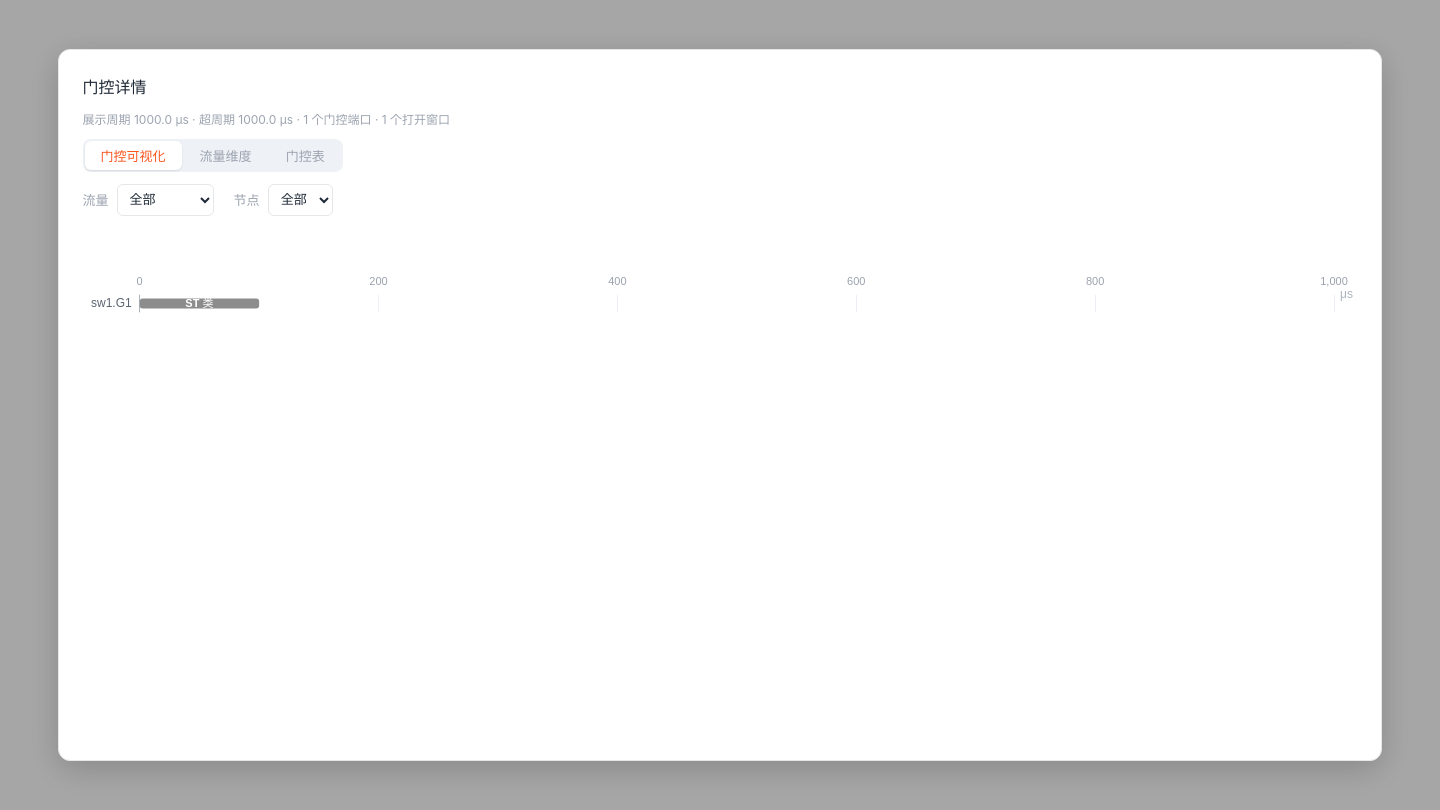
GclDetailModal › R10：class 降级引用显示「ST 类」徽章
The width and height of the screenshot is (1440, 810).
expect the panel with test id "gcl-gantt-slot" is shown: met, box [83,228,1357,320]
Step 1. Click the tab "门控表" → [305, 155], box [270,141,341,170]
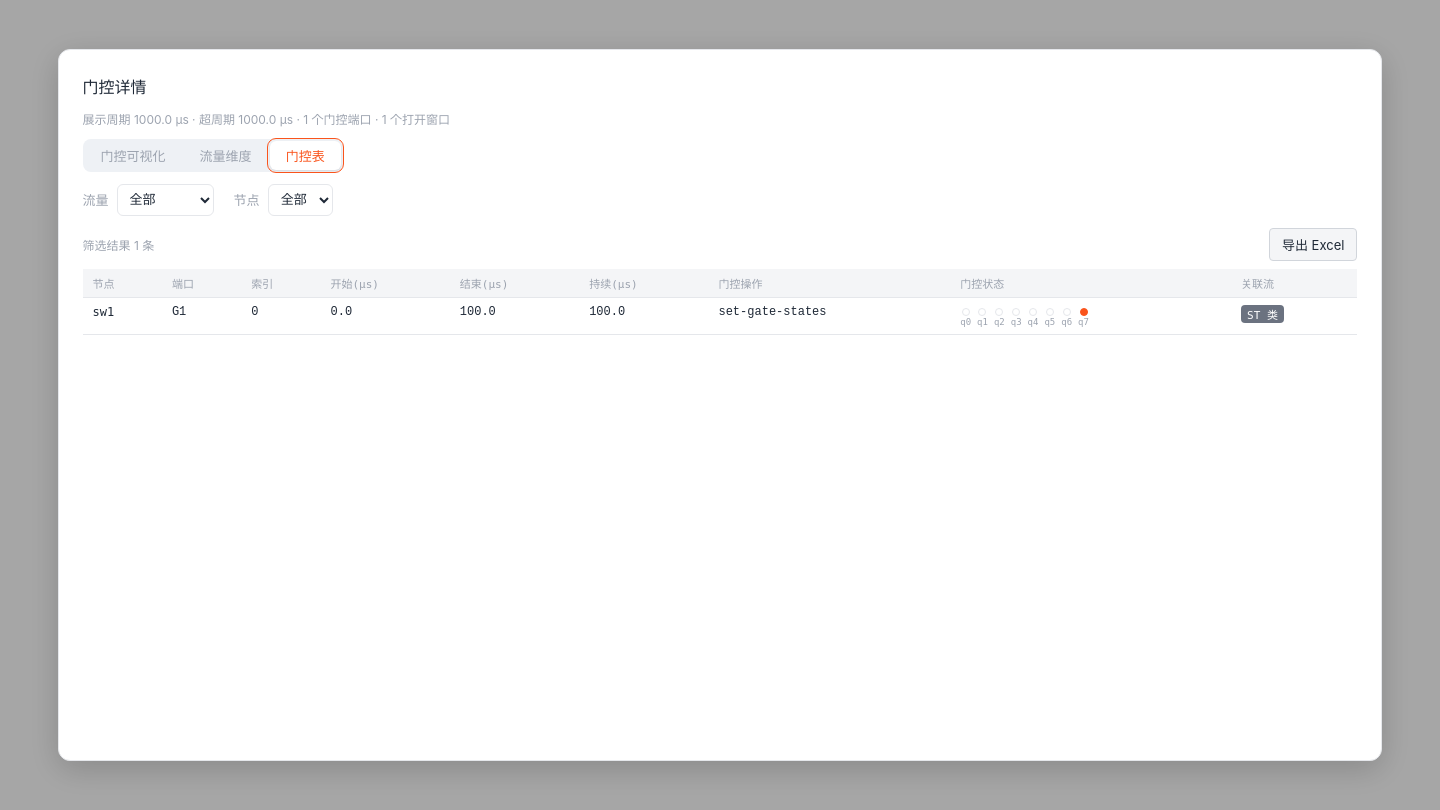
expect the text "ST 类" is shown: met, box [1241,305,1284,323]
